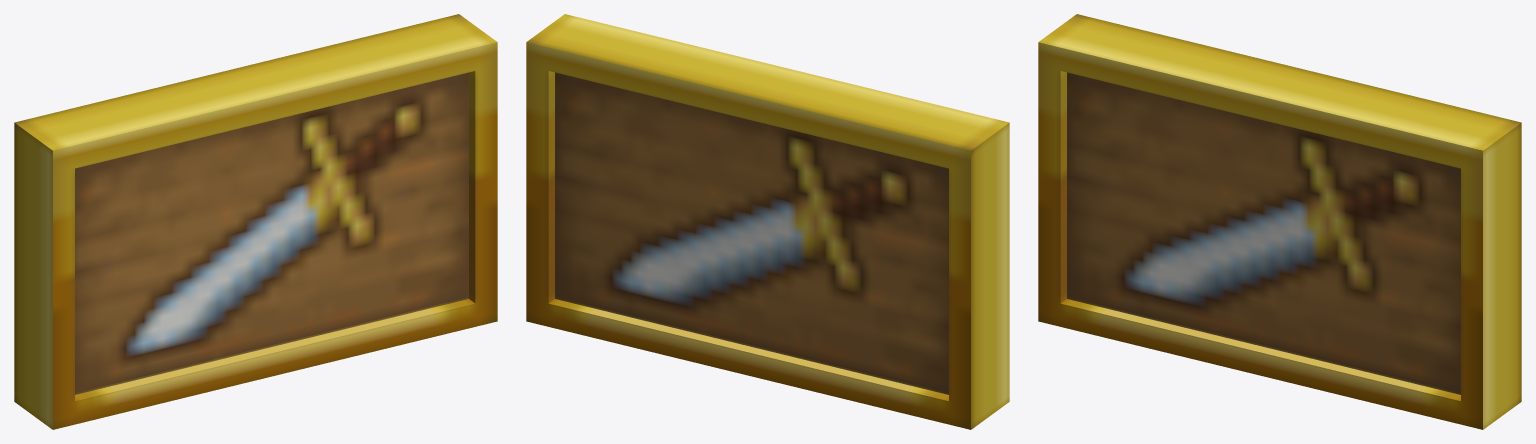
The model's file is Poly_Board_Sign_01.obj.
3 renders of one model, left to right at view 1: azimuth 30°, elevation 25°; view 2: azimuth 150°, elevation 25°; view 3: azimuth 330°, elevation 25°, orthographic.
Visible parts, largest first — view 1: Cube; view 2: Cube; view 3: Cube.
Part boxes in pixels (left/top/right/bottom): Cube: left=14, top=14, right=497, bottom=429; Cube: left=526, top=14, right=1009, bottom=429; Cube: left=1038, top=14, right=1521, bottom=429.
Bounding box in the file's own units: 1 × 0.6 × 0.15.
1 material, 1 textured.
